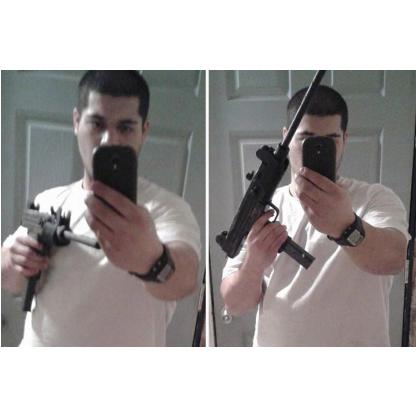gun: (221, 138, 314, 268), (8, 196, 102, 310)
